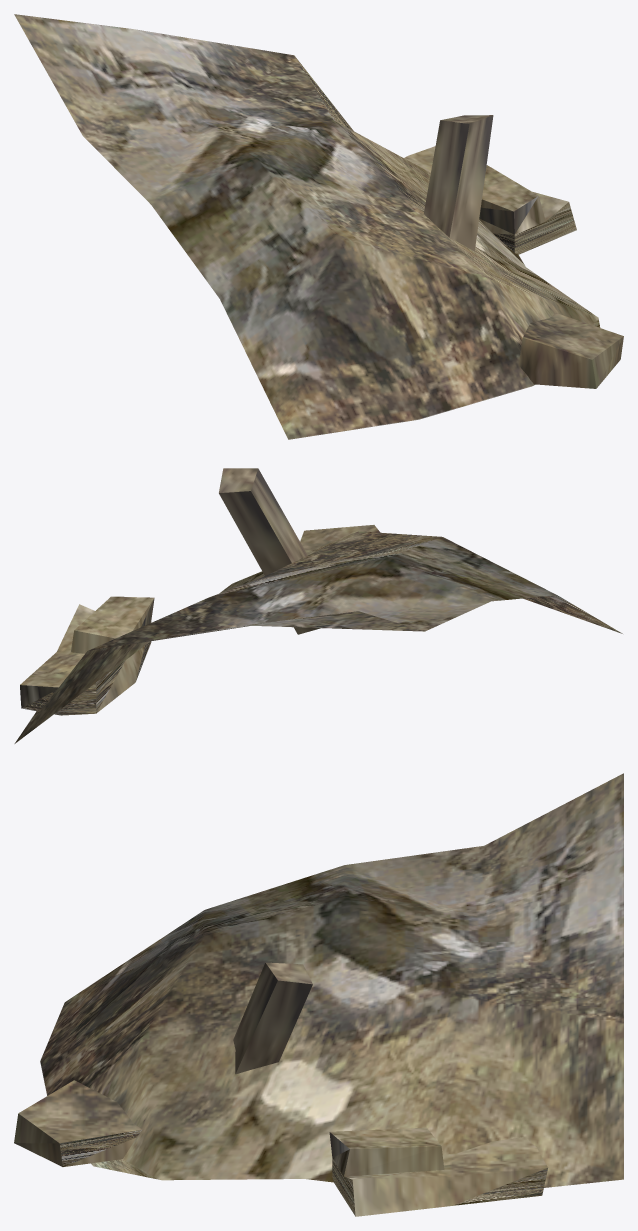
File: wdebris2.glb
3 views of the same model, one above another, from view 1: azimuth 30°, elevation 25°; view 2: azimuth 150°, elevation 25°; view 3: azimuth 270°, elevation 25° (orthographic). The views are drawn at different scales.
Parts seen in each view (by area): view 1: _wdebris2; view 2: _wdebris2; view 3: _wdebris2.
Boxes of the visible parts, x1,y1,x2,y2 form: _wdebris2: (14,14,623,439); _wdebris2: (14,468,622,743); _wdebris2: (14,773,623,1216).
Bounding box in the file's own units: 1.82 × 0.9045 × 2.18.
1 material, 1 textured.
